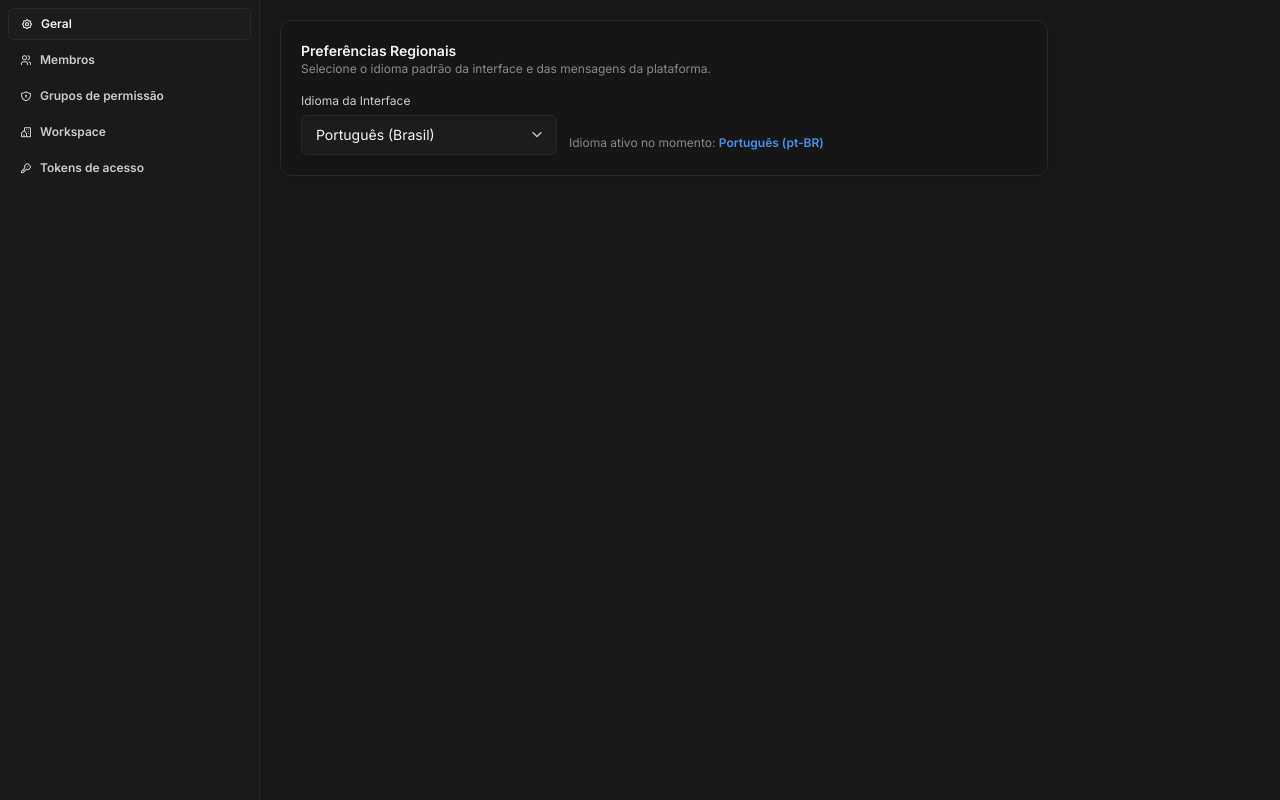
it: Permission groups in settings › shows an empty state when the workspace has no groups
The width and height of the screenshot is (1280, 800).
Click the button with test id "settings-section-groups".
click(130, 96)  # box [8,80,251,112]
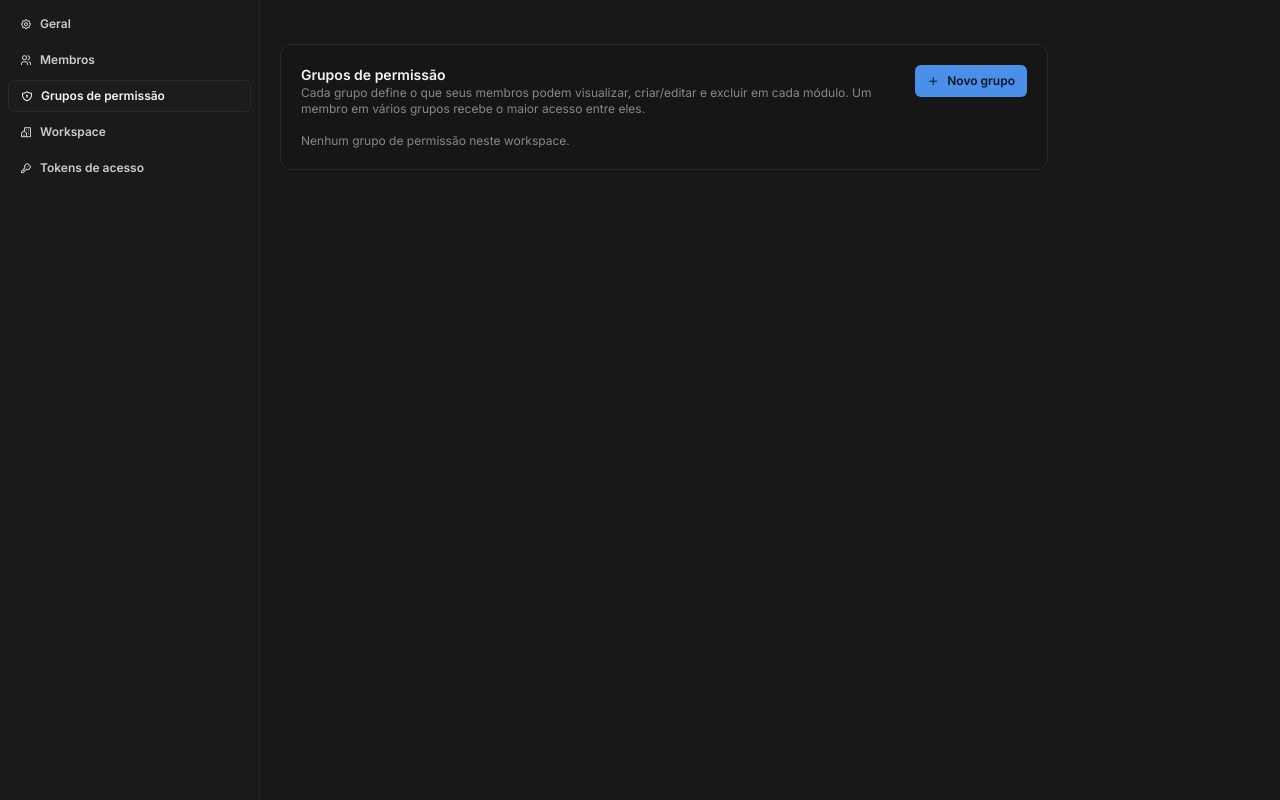
Result: the text "Nenhum grupo de permissão neste workspace." is shown at [301,133,570,148]
